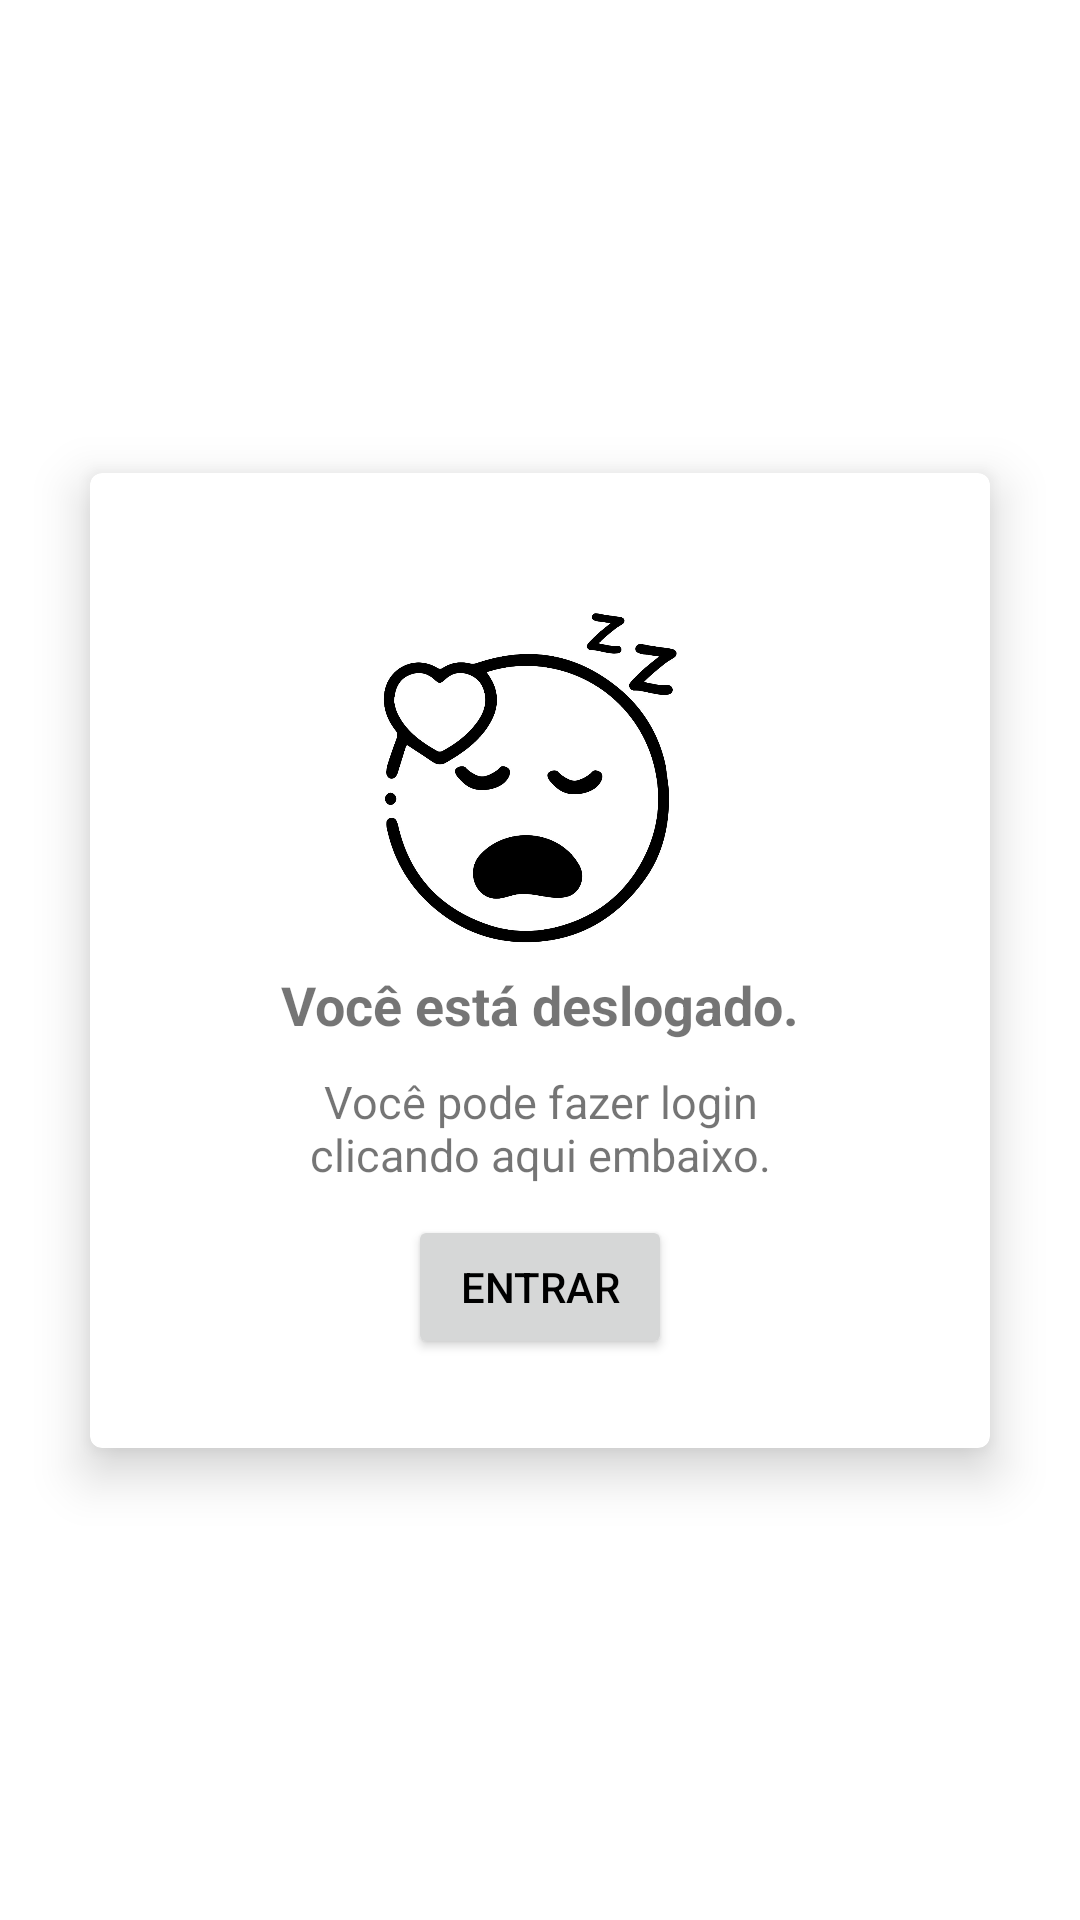

Screen size 1080x1920. Icon name, then its box in pixels as (x1, y1, x2, y2):
dormindo: (384, 613, 677, 942)
